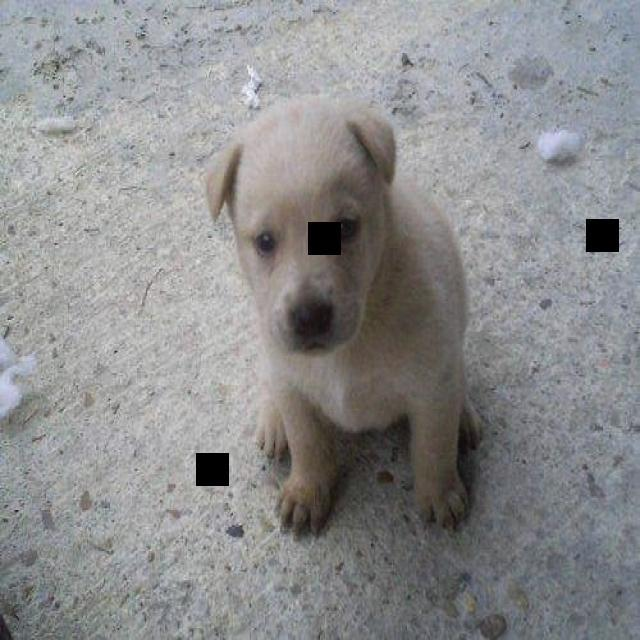puppy-dog: (202, 88, 482, 538)
